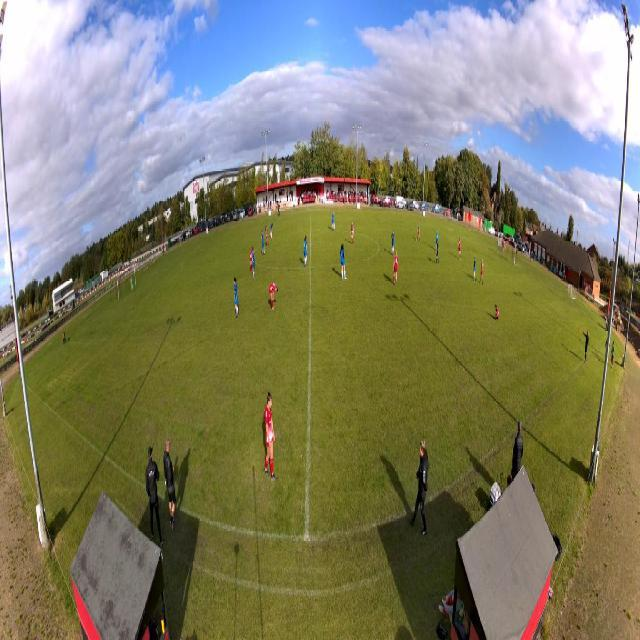player: (264, 393, 276, 482), (268, 281, 279, 312), (340, 243, 348, 282), (233, 278, 239, 318), (393, 250, 398, 286), (261, 230, 266, 257), (303, 235, 307, 267), (479, 259, 484, 284), (391, 228, 395, 256), (436, 238, 440, 266), (250, 246, 254, 273), (458, 236, 462, 262), (473, 255, 477, 281), (351, 220, 355, 244), (495, 303, 500, 321), (253, 248, 256, 276), (332, 210, 336, 230), (265, 226, 269, 245), (270, 221, 274, 240), (130, 275, 134, 294), (416, 223, 420, 242), (436, 230, 439, 250)
